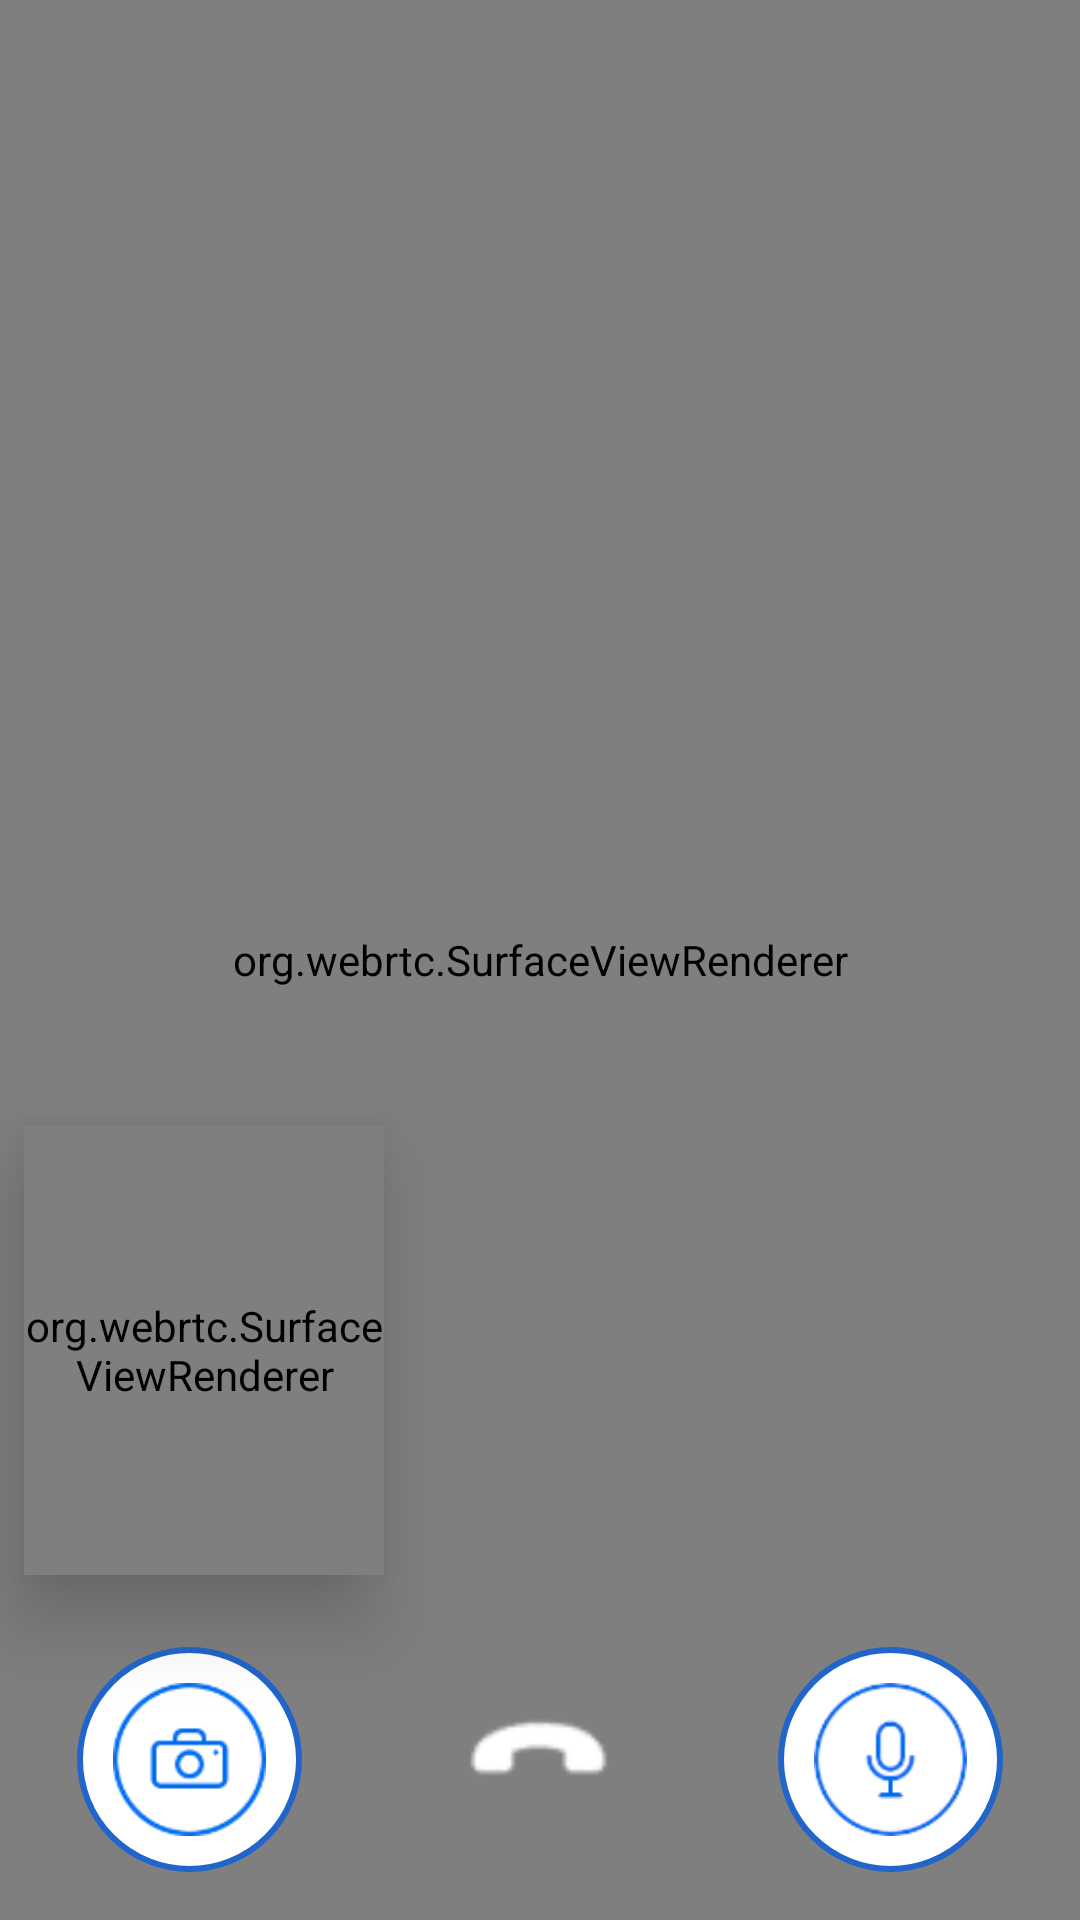

Icons on this 1080px×1920px Android screen, each with its box as (x1, y1, x2, y2):
call disconnect: (471, 1722, 607, 1774)
camera: (77, 1647, 302, 1872)
mic: (778, 1647, 1003, 1872)
